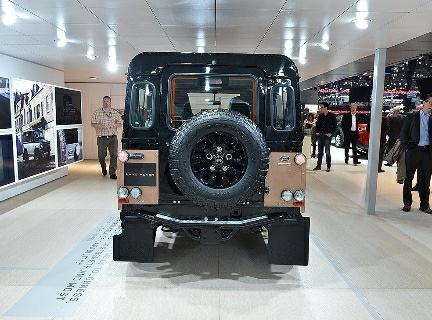路虎-卫士: (110, 47, 315, 260)
